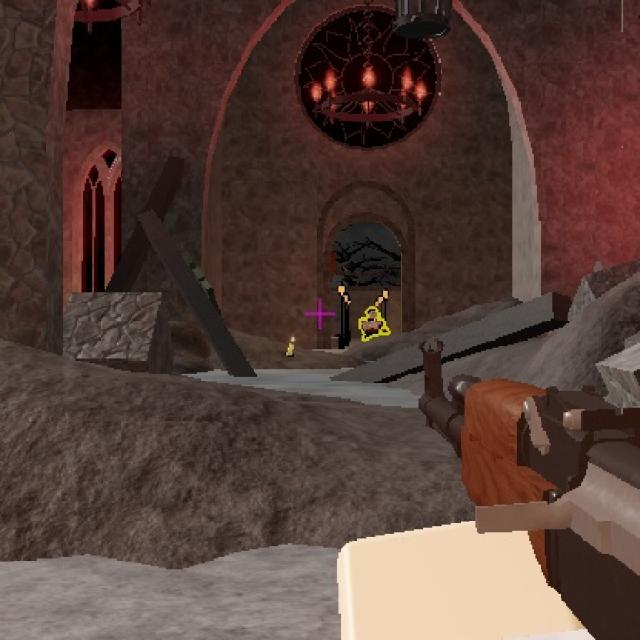player: (354, 301, 384, 338)
